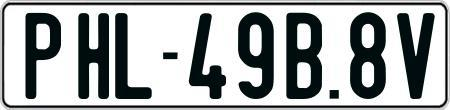4: (187, 11, 226, 97)
8: (348, 11, 384, 98)
9: (235, 9, 276, 101)
B: (285, 11, 323, 102)
H: (76, 13, 111, 103)
L: (112, 11, 154, 99)
P: (23, 10, 58, 96)
V: (396, 13, 436, 100)
